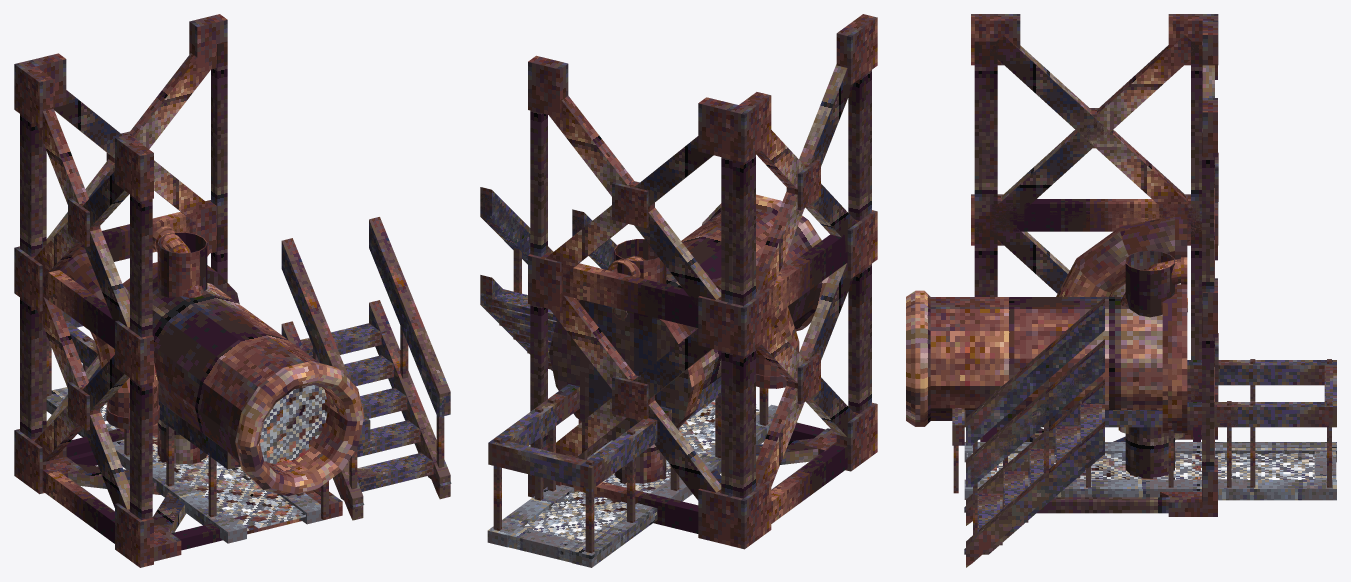
File: Overheat_TileSet_Vol2.fbx
The picture shows the model from 3 angles, left to right: view 1: azimuth 30°, elevation 25°; view 2: azimuth 150°, elevation 25°; view 3: azimuth 270°, elevation 25°; orthographic projection. The views are drawn at different scales.
Parts seen in each view (by area): view 1: Big_Tube_End, FloorPlatform, Big_Tube, DiagonalBeam_3, DiagonalBeam, Big_Pipe, DiagonalBeam_7, Big_Tube_Mesh, DiagonalBeam_6, RightBeam_2, RightBeam_1, LadderRightTop_3 (+42 smaller); view 2: FloorPlatformCorner, Big_Tube_Base, DiagonalBeam_7, DiagonalBeam_4, FloorPlatformEnd, FloorPlatform, DiagonalBeam_2, DiagonalBeam_1, TopBeam_2, DiagonalBeam_6, Big_Tube_End, DiagonalBeam_5 (+39 smaller); view 3: Big_Tube_End, Big_Tube, FloorPlatformCorner, FloorPlatform, DiagonalBeam_2, DiagonalBeam_3, FloorPlatformEnd, Big_Pipe_Corner, Big_Pipe, RightBeam_2, TopBeam, LadderRightTop_3 (+29 smaller).
Part boxes in pixels (bbox=[...]): Big_Tube_End: bbox=[195, 333, 364, 496]; FloorPlatform: bbox=[113, 401, 325, 543]; Big_Tube: bbox=[152, 283, 292, 432]; DiagonalBeam_3: bbox=[37, 108, 129, 327]; DiagonalBeam: bbox=[37, 296, 129, 509]; Big_Pipe: bbox=[157, 232, 207, 472]; DiagonalBeam_7: bbox=[46, 53, 210, 243]; Big_Tube_Mesh: bbox=[260, 385, 327, 464]; DiagonalBeam_6: bbox=[53, 90, 211, 223]; RightBeam_2: bbox=[130, 194, 152, 337]; RightBeam_1: bbox=[130, 378, 152, 519]; LadderRightTop_3: bbox=[369, 300, 450, 499]; FloorPlatformCorner: bbox=[488, 397, 657, 567]; Big_Tube_Base: bbox=[549, 299, 704, 440]; DiagonalBeam_7: bbox=[549, 96, 721, 307]; DiagonalBeam_4: bbox=[550, 293, 721, 500]; FloorPlatformEnd: bbox=[487, 393, 584, 562]; FloorPlatform: bbox=[556, 376, 777, 501]; DiagonalBeam_2: bbox=[756, 64, 853, 294]; DiagonalBeam_1: bbox=[756, 263, 853, 487]; TopBeam_2: bbox=[561, 263, 698, 320]; DiagonalBeam_6: bbox=[546, 136, 713, 275]; Big_Tube_End: bbox=[681, 194, 829, 331]; DiagonalBeam_5: bbox=[546, 329, 712, 457]; Big_Tube_End: bbox=[906, 290, 1014, 426]; Big_Tube: bbox=[1014, 297, 1162, 409]; FloorPlatformCorner: bbox=[1214, 359, 1336, 487]; FloorPlatform: bbox=[964, 360, 1201, 499]; DiagonalBeam_2: bbox=[988, 35, 1200, 224]; DiagonalBeam_3: bbox=[987, 35, 1199, 227]; FloorPlatformEnd: bbox=[1214, 365, 1336, 500]; Big_Pipe_Corner: bbox=[1056, 214, 1187, 296]; Big_Pipe: bbox=[1125, 250, 1174, 479]; RightBeam_2: bbox=[974, 41, 997, 233]; TopBeam: bbox=[991, 199, 1201, 224]; LadderRightTop_3: bbox=[966, 421, 1104, 567].
Size of the model in its own units: 177 by 227 by 218.
Materials: 4 (4 with a texture image).
